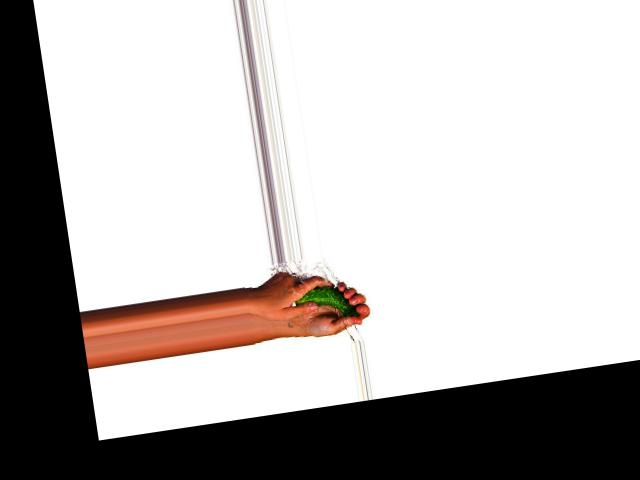cucumber: (292, 280, 359, 324)
